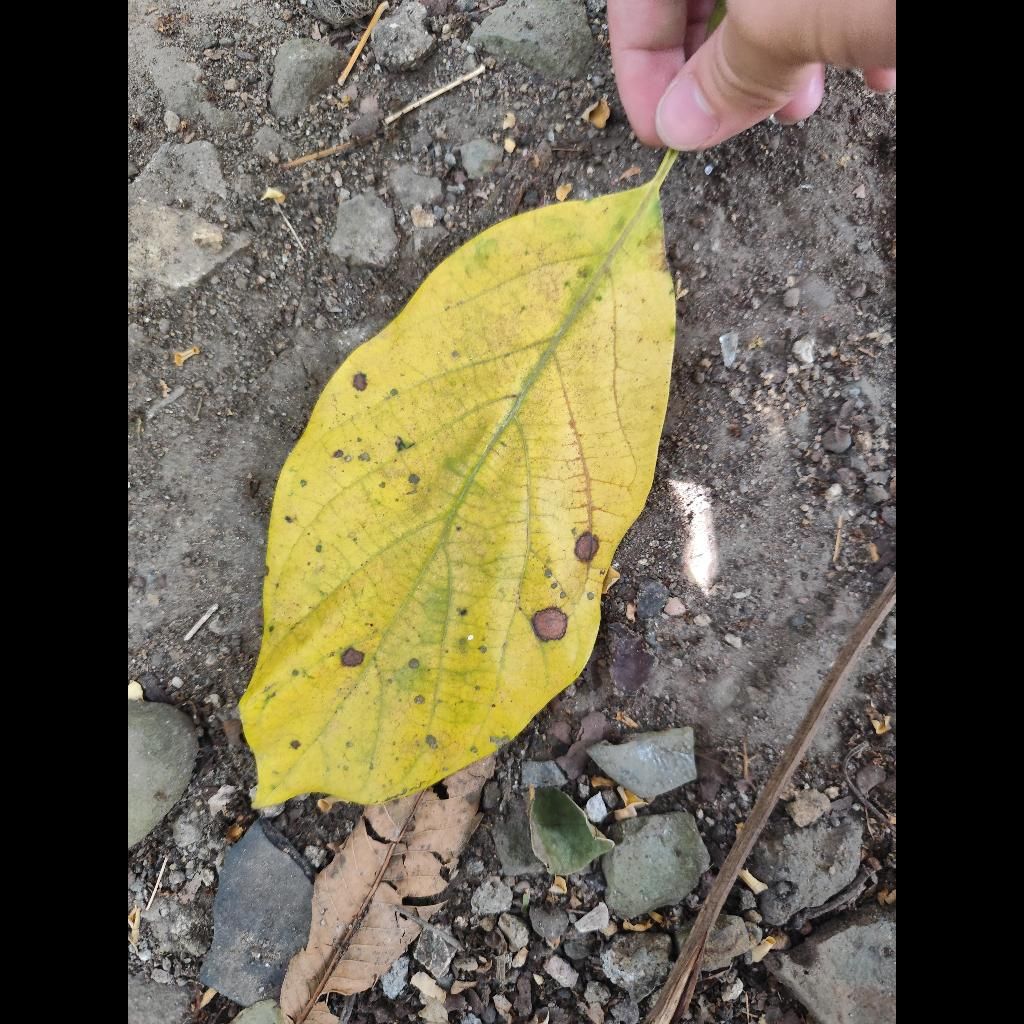nutrient_deficiency: (241, 157, 675, 805)
